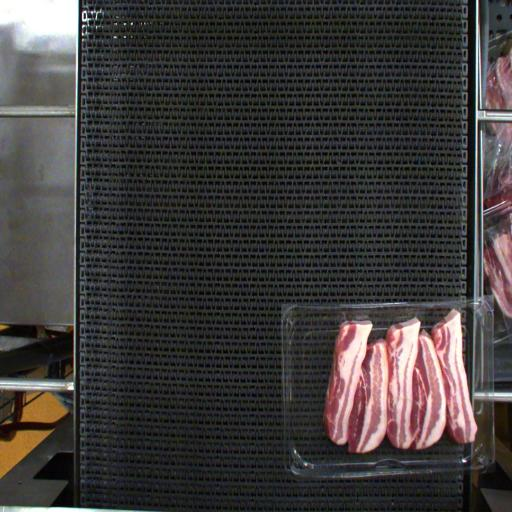packaging-error: (340, 311, 353, 323)
